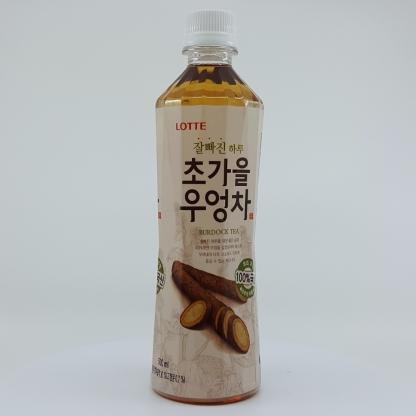----------500ML: (150, 8, 265, 406)
